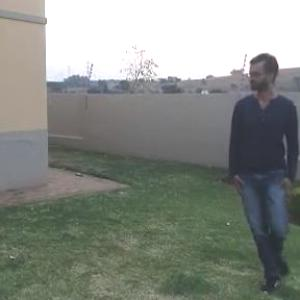follow: (218, 45, 285, 284)
